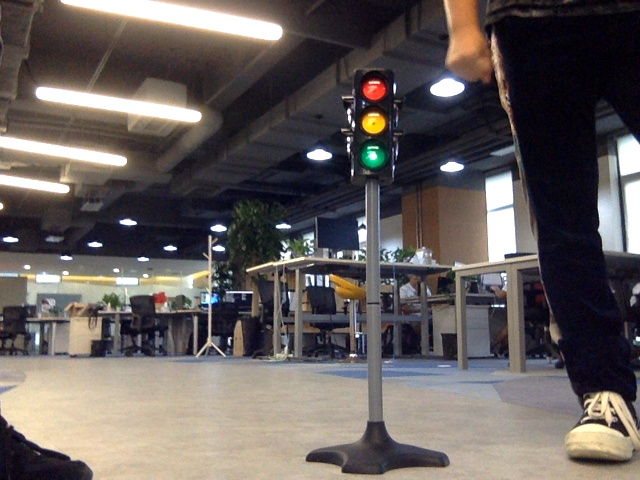green: (354, 80, 392, 172)
